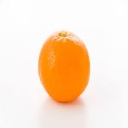orange: (37, 29, 91, 106)
